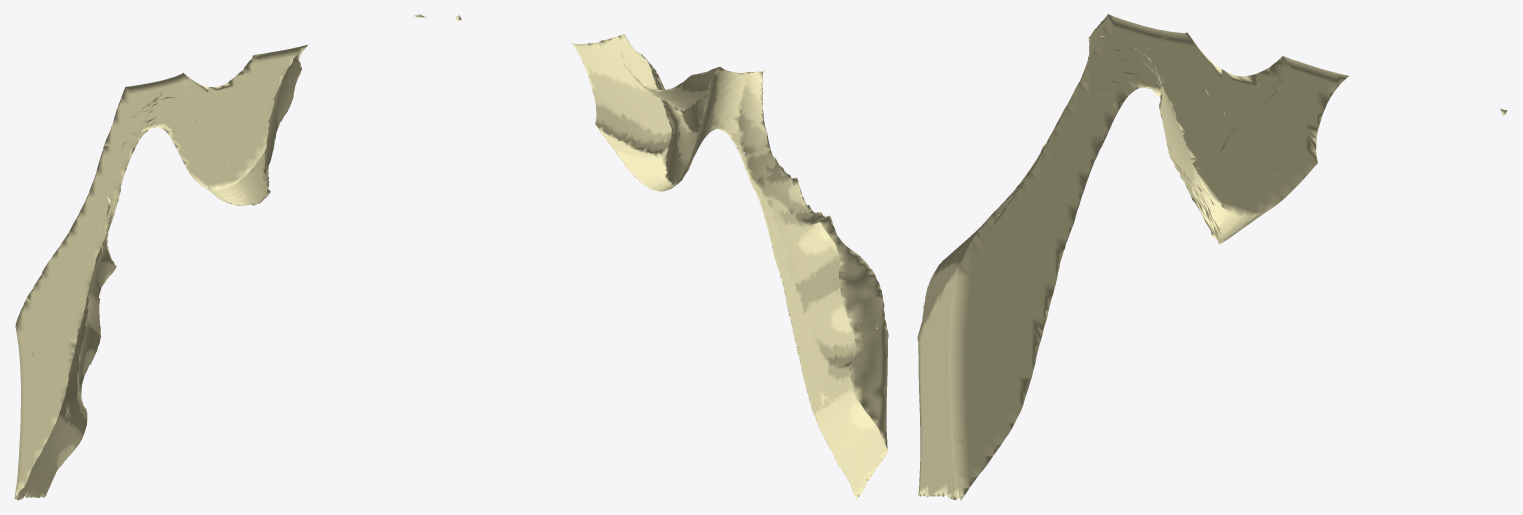
The model's file is Ptbn2j1.gltf.
The picture shows the model from 3 angles, left to right: view 1: azimuth 30°, elevation 25°; view 2: azimuth 150°, elevation 25°; view 3: azimuth 330°, elevation 25°; orthographic projection. The views are drawn at different scales.
Parts seen in each view (by area): view 1: Switch_Switch_osgPicked_gmeGeoEntityGeode_Geometry_0; view 2: Switch_Switch_osgPicked_gmeGeoEntityGeode_Geometry_0; view 3: Switch_Switch_osgPicked_gmeGeoEntityGeode_Geometry_0.
Boxes of the visible parts, x1,y1,x2,y2 form: Switch_Switch_osgPicked_gmeGeoEntityGeode_Geometry_0: [14, 44, 307, 500]; Switch_Switch_osgPicked_gmeGeoEntityGeode_Geometry_0: [572, 34, 888, 500]; Switch_Switch_osgPicked_gmeGeoEntityGeode_Geometry_0: [917, 14, 1348, 500].
Size of what is drawn, in the model's own units: 23133 by 21070 by 3507.
